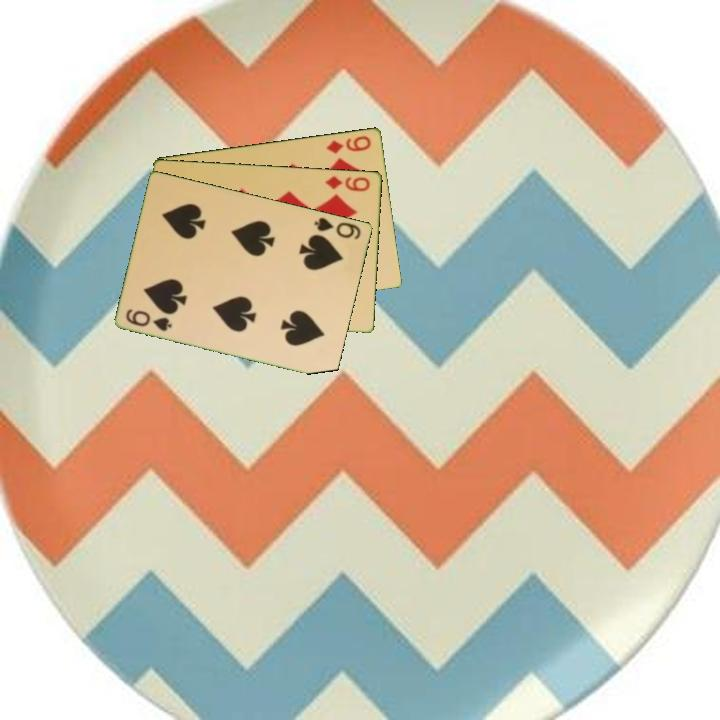6s: (311, 213, 364, 242), (123, 305, 175, 334)
9d: (322, 132, 374, 156), (322, 172, 373, 194)
